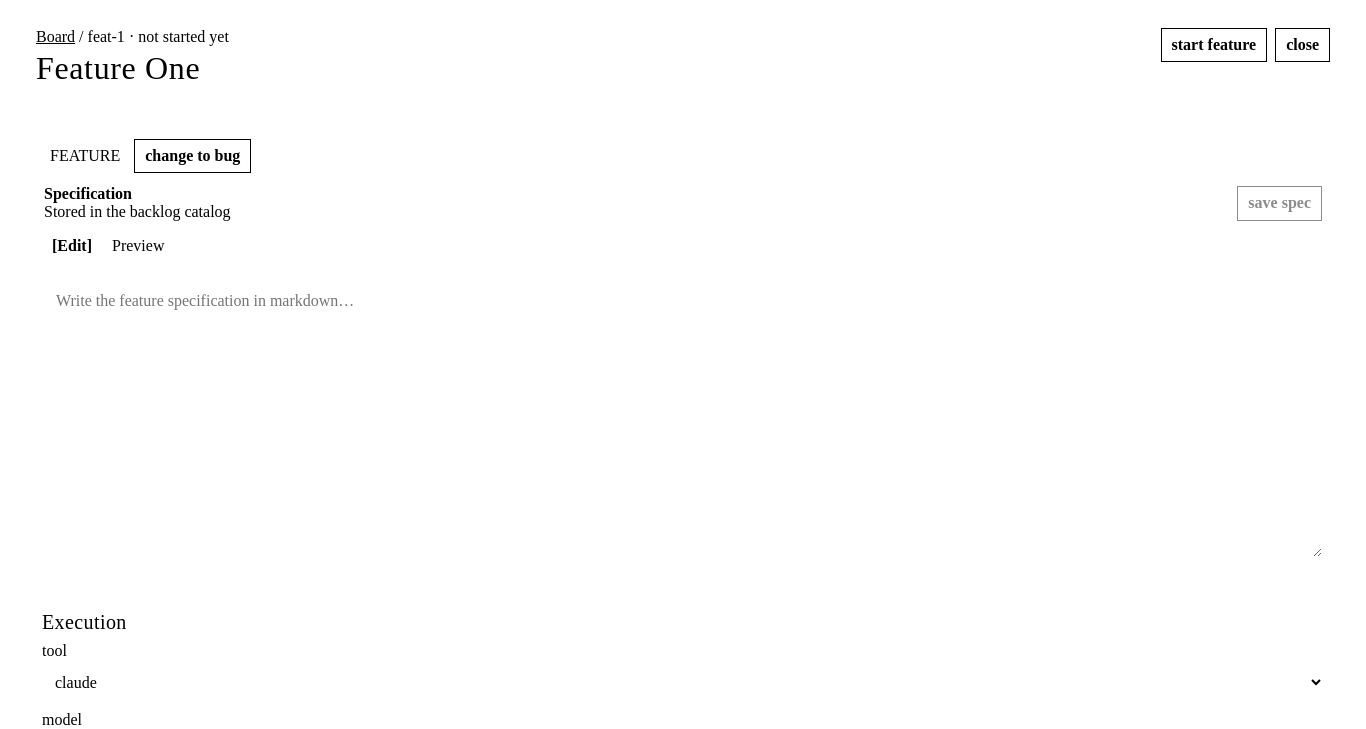
Test: BacklogItemDetail Work Item type change › requests a preview and shows the current/new workflow diff when a type change is requested
The image size is (1366, 729).
Click the button "change to bug" at coordinates (193, 156), box [134,139,251,173]
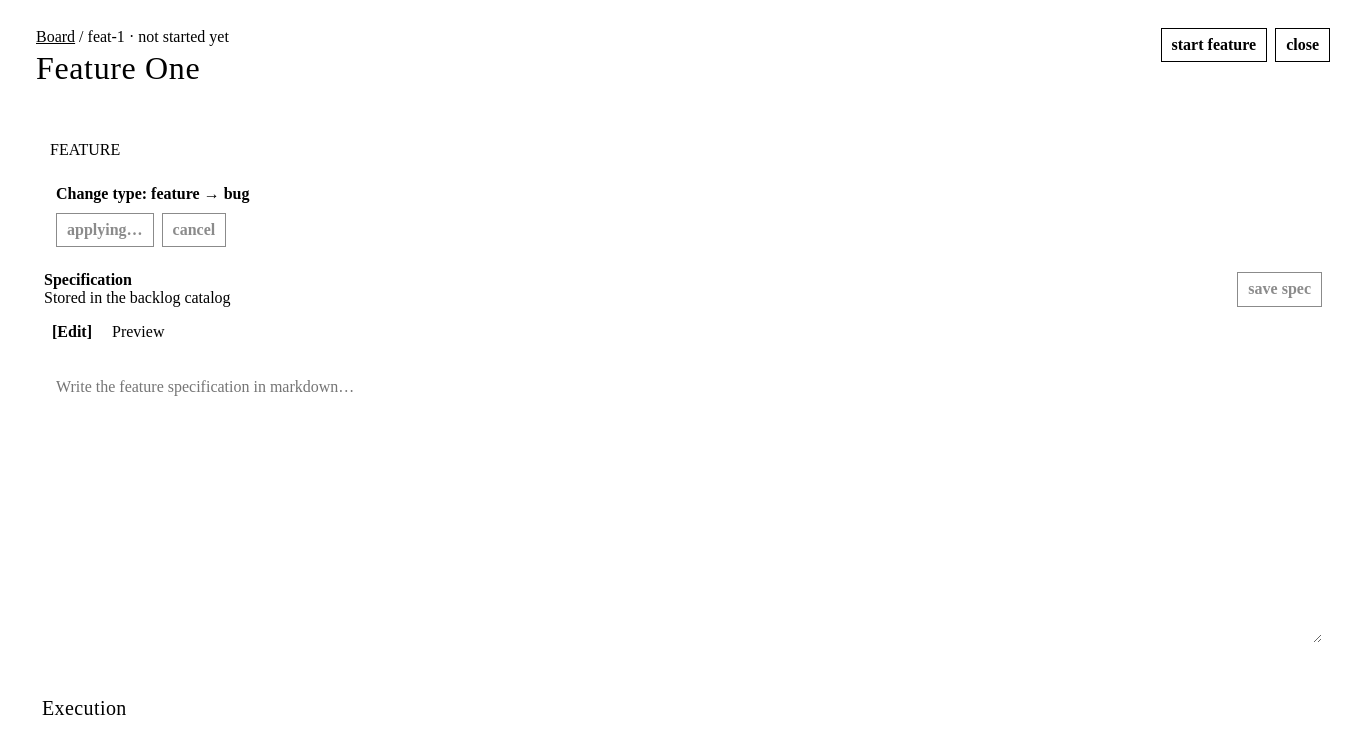
Result: the text "Change type: feature → bug" is shown at [56,185,250,202]
Result: the button "applying…" is disabled at [56,213,154,247]
